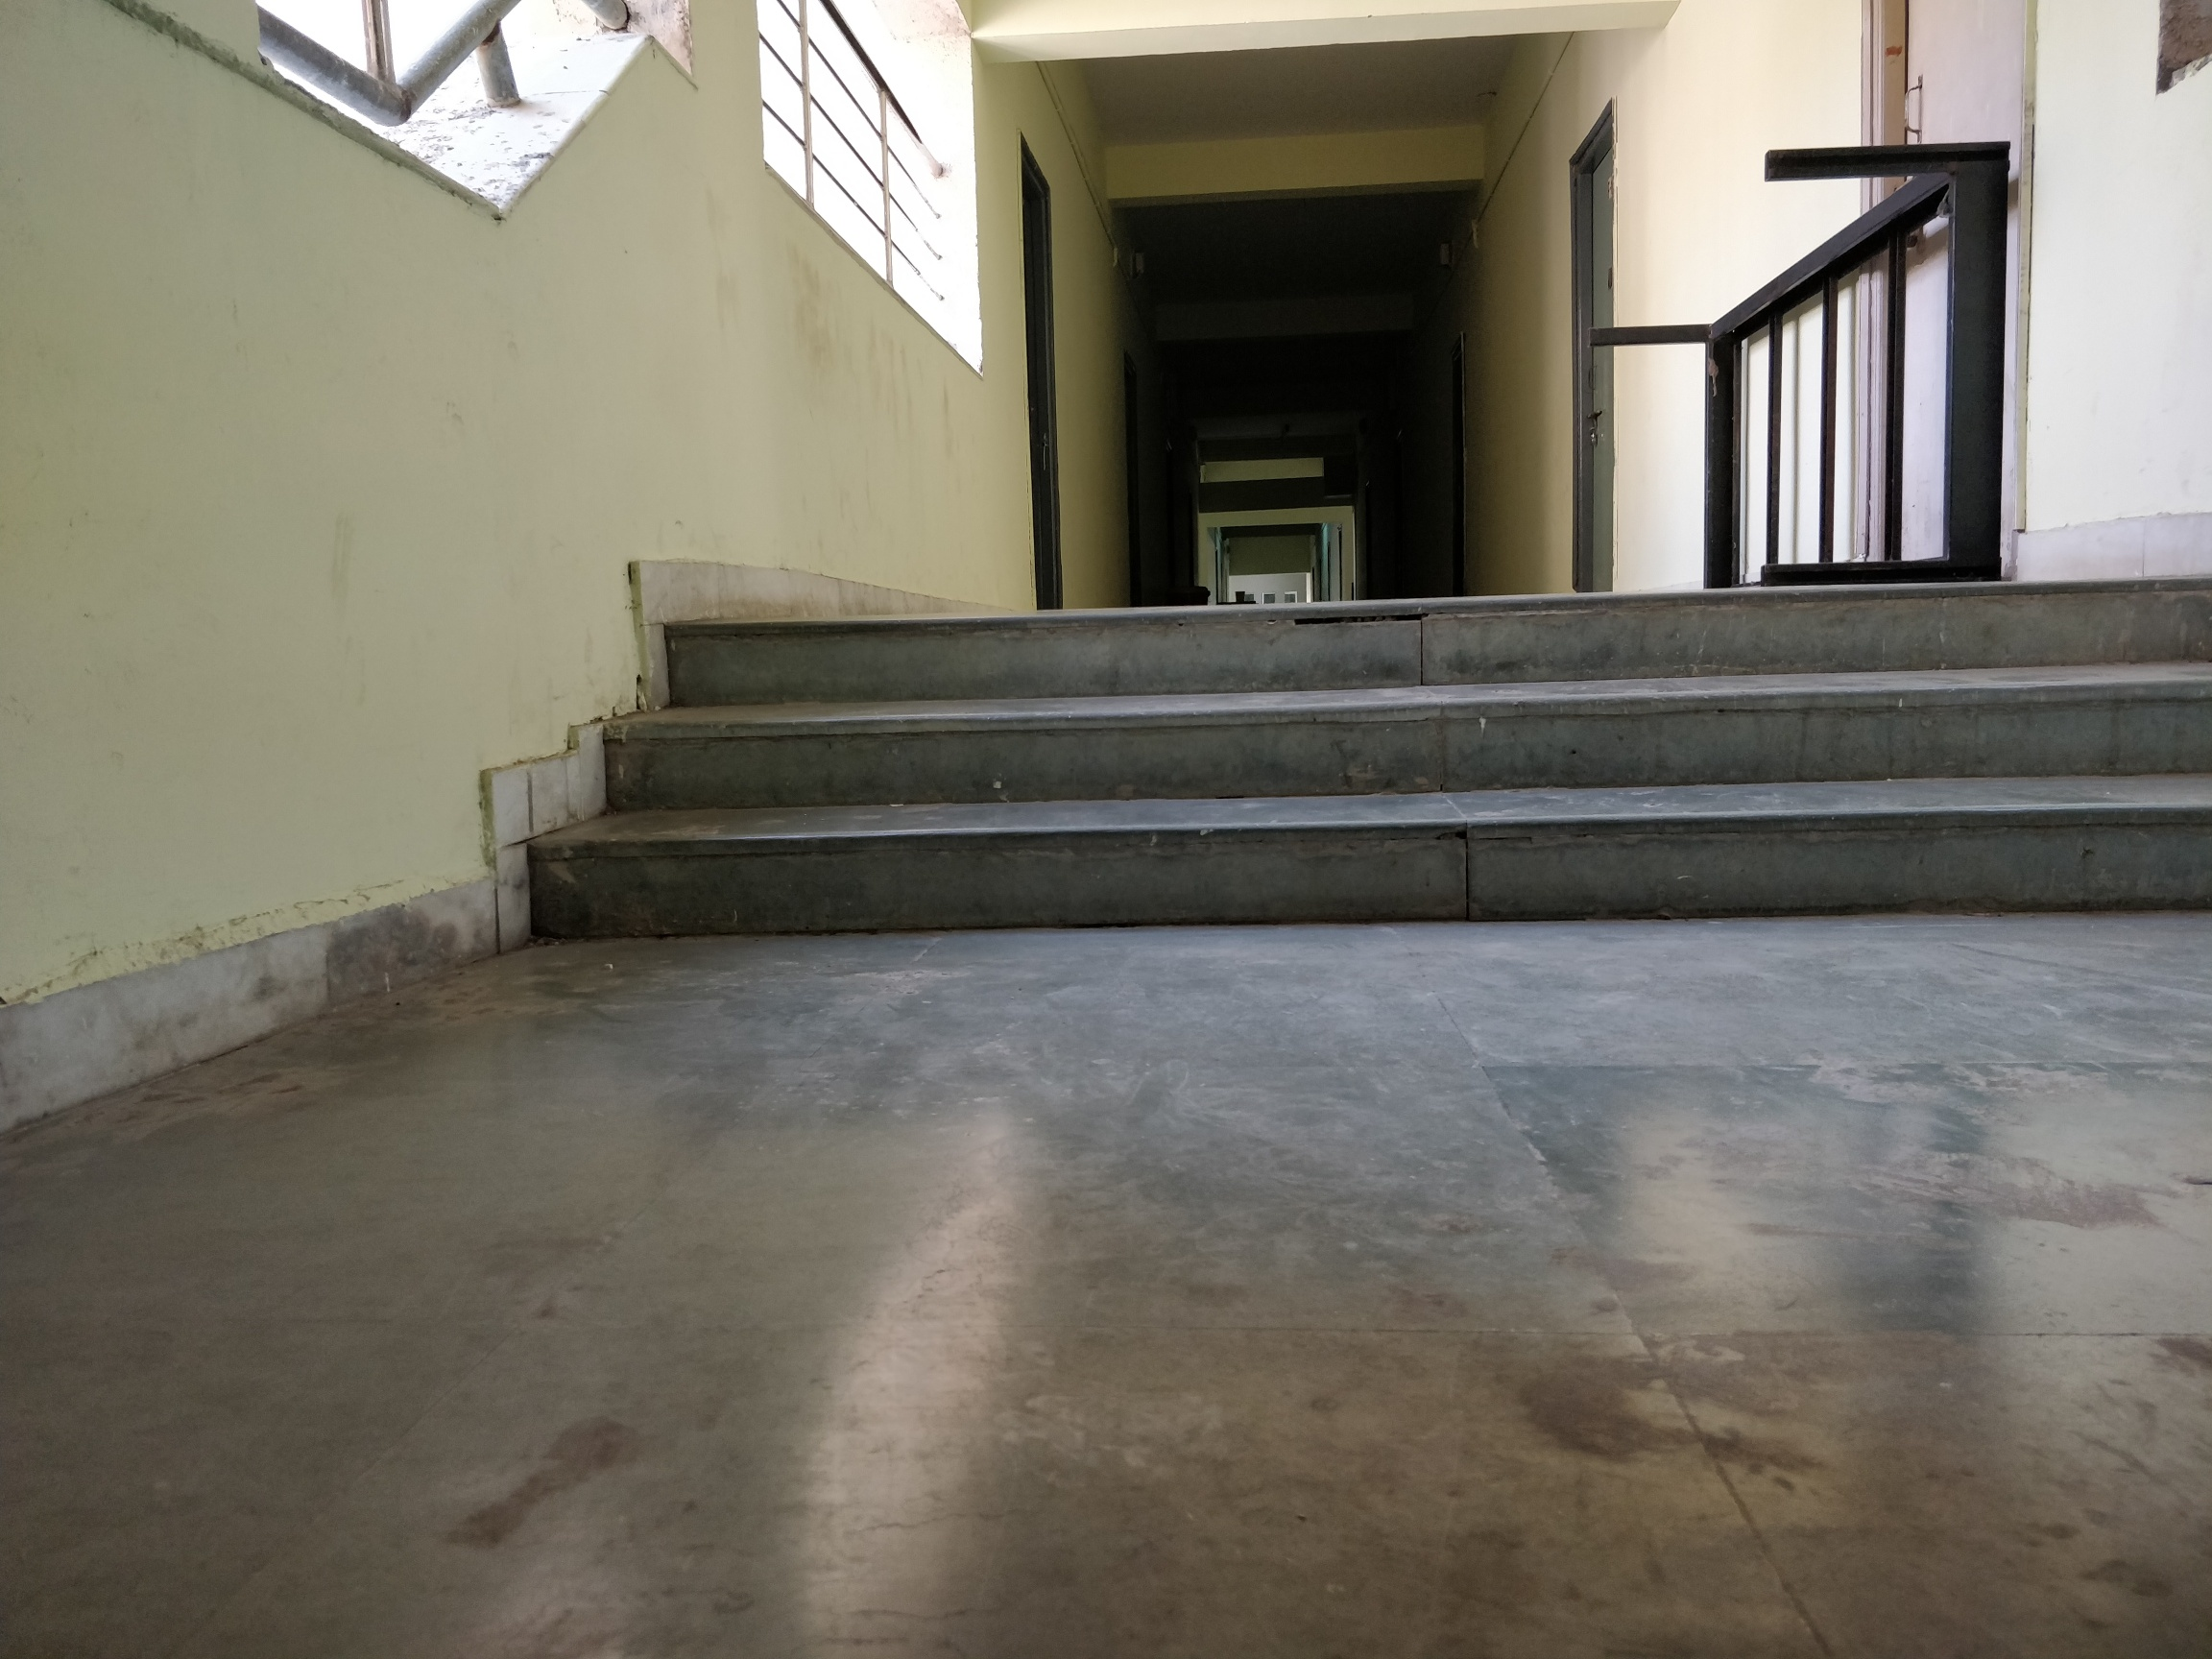stairs_up: (536, 573, 2210, 950)
